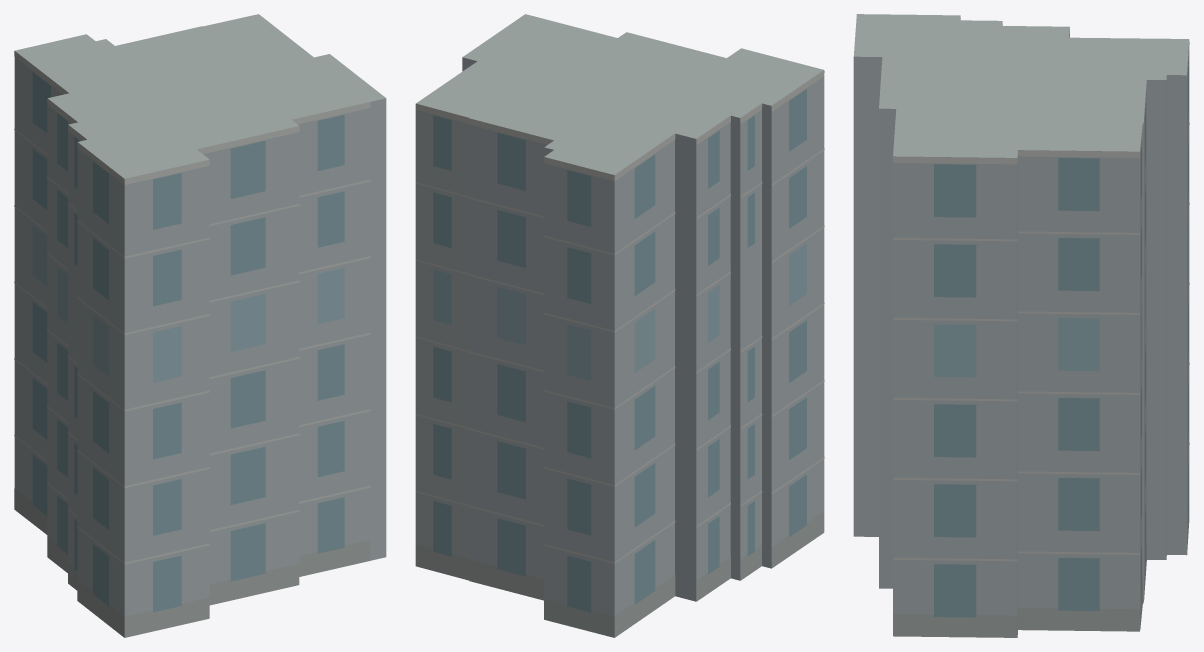
Rendered from survey-upis-32913175.glb.
3 renders of one model, left to right at view 1: azimuth 30°, elevation 25°; view 2: azimuth 150°, elevation 25°; view 3: azimuth 270°, elevation 25°, orthographic. The views are drawn at different scales.
Visible parts, largest first — view 1: survey-upis-32913175.tmp; view 2: survey-upis-32913175.tmp; view 3: survey-upis-32913175.tmp.
Part boxes in pixels (x1,y1,x2,y2): survey-upis-32913175.tmp: (14, 14, 386, 637); survey-upis-32913175.tmp: (415, 14, 824, 637); survey-upis-32913175.tmp: (853, 14, 1189, 637).
Bounding box in the file's own units: 11.79 × 18.3 × 11.62.
